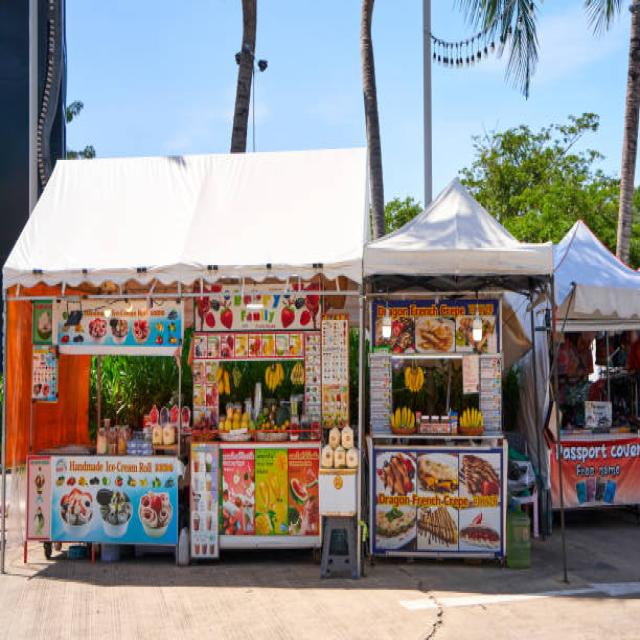Emperan: (0, 122, 366, 585), (363, 162, 558, 583)
